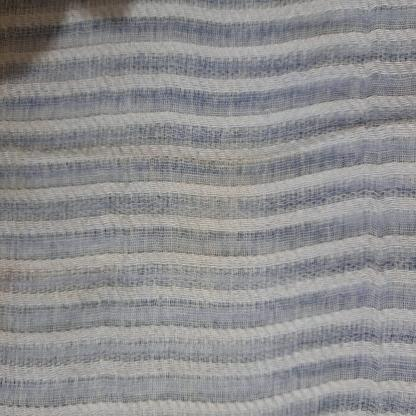spot: (61, 117, 367, 239)
